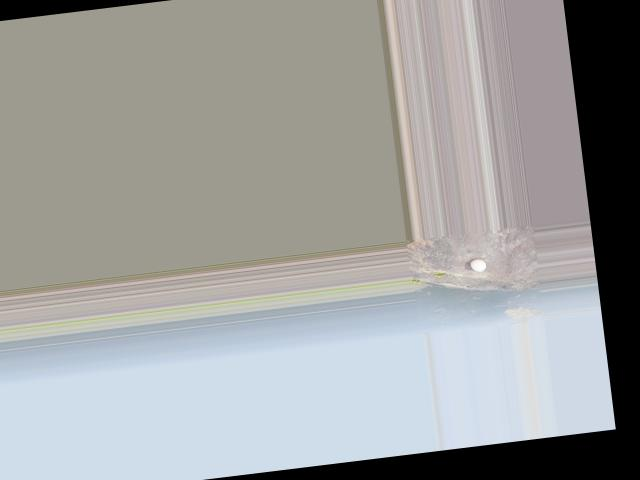egg: (470, 257, 487, 272)
